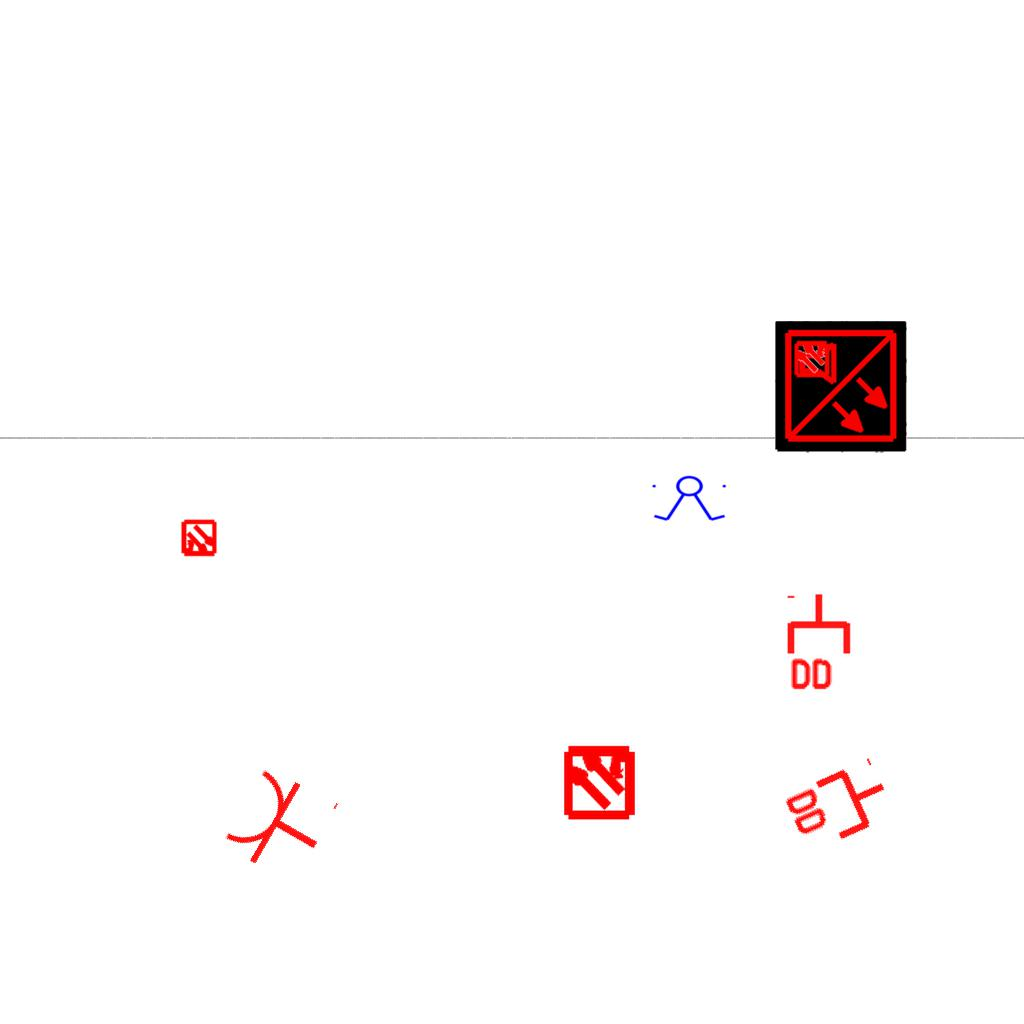Datenanschluss_zweifach: (778, 755, 901, 860), (786, 591, 855, 694)
OKW_Multisensormelder_(Kombination_optischer_Rauch-Kahlenmonoxid_Waerme-Melder): (775, 321, 907, 453)
OT_Multisensormelder_(Kombination_RMO_WMD): (543, 724, 656, 837), (171, 511, 227, 567), (784, 330, 840, 386)
Schukosteckdose_einfach: (217, 757, 344, 889)
Serienschalter: (648, 475, 732, 523)
